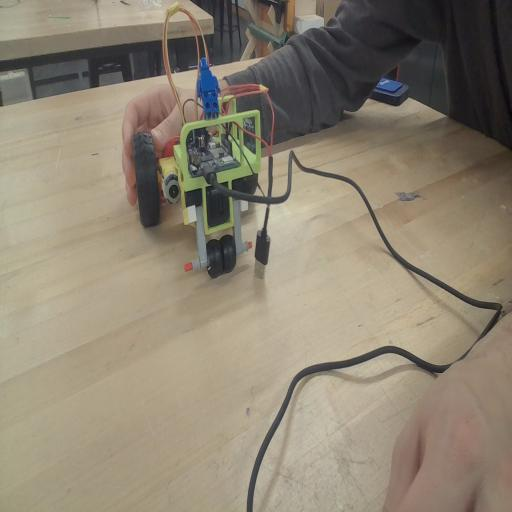blue LEGO minifig: (194, 54, 222, 126)
